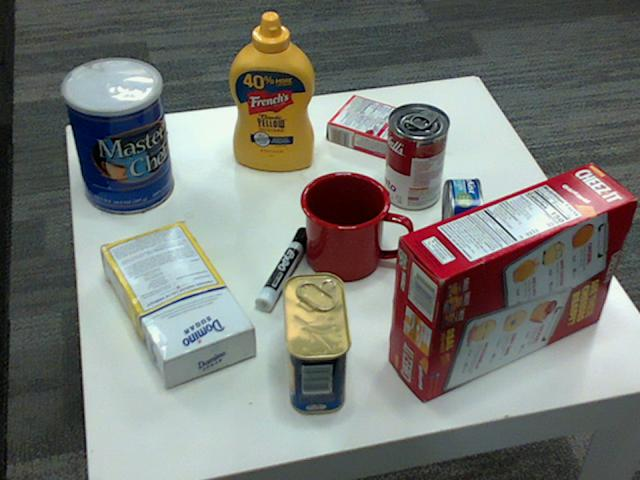cracker_box: (387, 161, 635, 399)
gelatin_box: (328, 94, 415, 157)
large_marker: (253, 229, 311, 316)
master_chef_can: (59, 58, 172, 214)
mug: (299, 169, 410, 278)
mustard_bottle: (228, 12, 314, 171)
potted_meat_can: (283, 273, 352, 413)
sugar_box: (98, 219, 253, 383)
tomato_soup_can: (383, 104, 448, 210)
tuna_fish_can: (440, 177, 482, 258)
